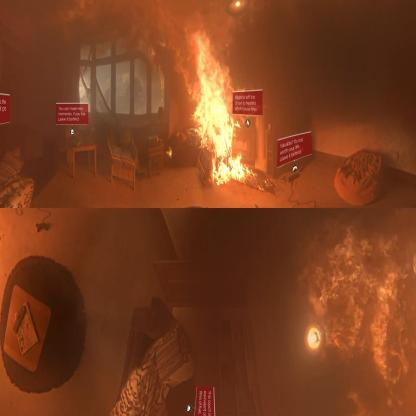fire: (319, 215, 416, 413), (182, 29, 254, 184)
